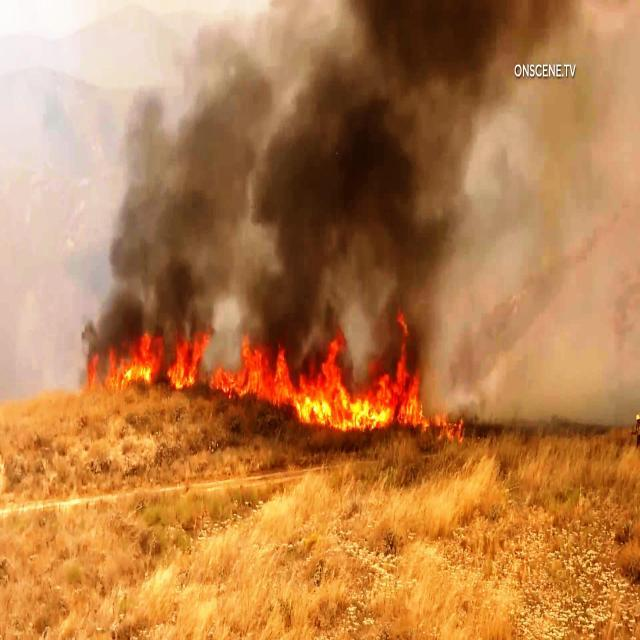Fire: (82, 324, 466, 452)
Smoke: (2, 0, 640, 335), (470, 342, 640, 427), (0, 342, 90, 388)
